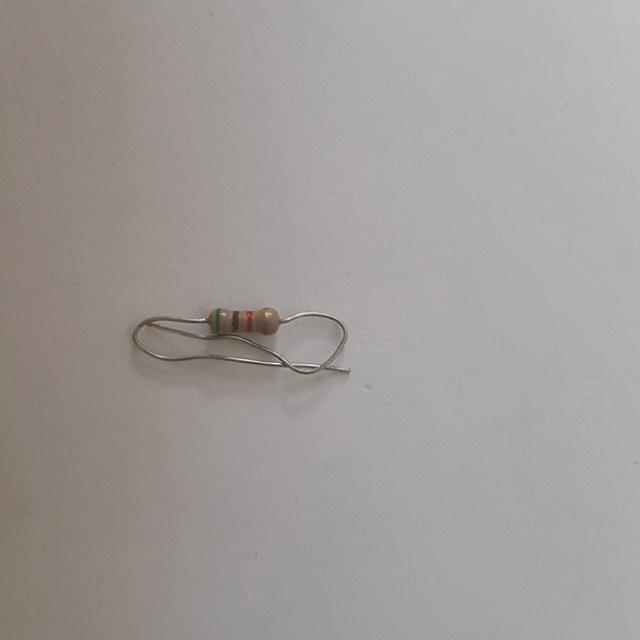brown: (231, 309, 237, 330)
gold: (263, 308, 269, 334)
green: (216, 309, 221, 332)
red: (247, 311, 251, 331)
resistor: (205, 304, 284, 342)
